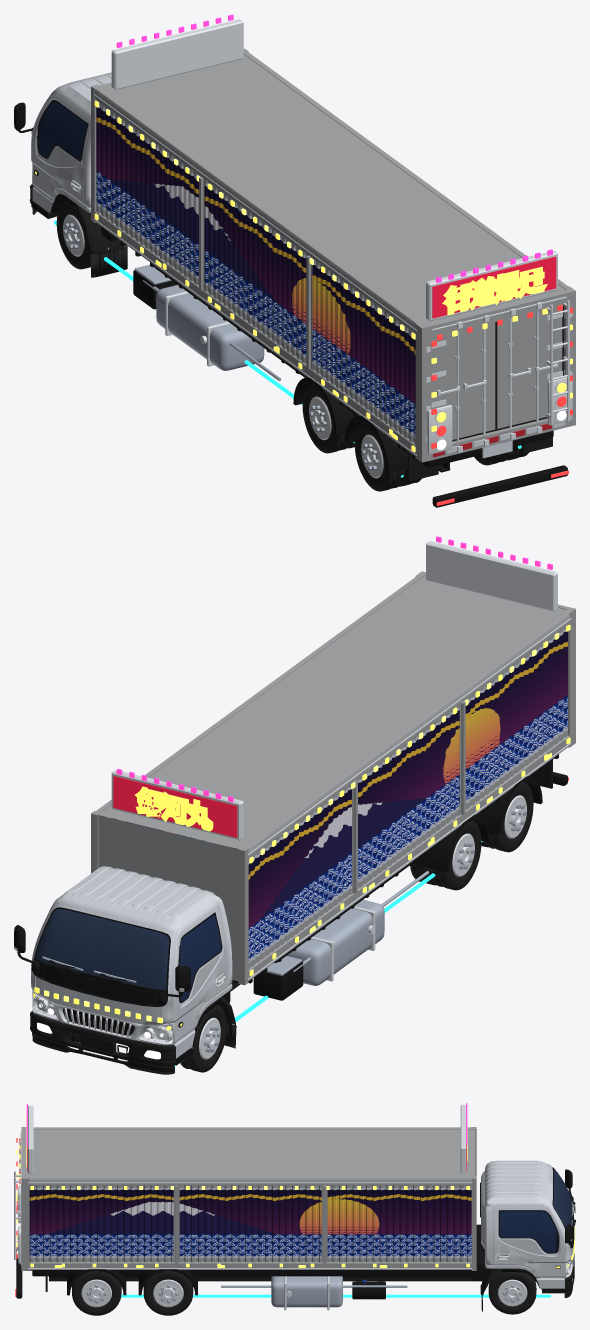
The model's file is dekotora_truck_base_curta.glb.
3 renders of one model, top to bottom at view 1: azimuth 30°, elevation 25°; view 2: azimuth 150°, elevation 25°; view 3: azimuth 270°, elevation 25°, orthographic. The views are drawn at different scales.
Visible parts, largest first — view 1: truck_paint_white_box, truck_mural, truck_box_metal, truck_chrome, truck_plastic_black, truck_steel, truck_paint_white_panel, truck_lamp_amber, truck_rubber, truck_glass, wheel_r_L_1.5_1.06, wheel_r_L_3.0_1.06 (+6 smaller); view 2: truck_paint_white_box, truck_mural, truck_box_metal, truck_paint_white_panel, truck_chrome, truck_plastic_black, truck_glass_wind, truck_steel, truck_plastic_trim, truck_lamp_amber, truck_andon_panel, wheel_r_L_3.0_1.06 (+4 smaller); view 3: truck_mural, truck_paint_white_box, truck_box_metal, truck_paint_white_panel, truck_plastic_black, truck_chrome, truck_steel, wheel_r_R_3.0_1.06, wheel_r_R_1.5_1.06, wheel_f_R, truck_glass, truck_lamp_cyan (+3 smaller).
Part boxes in pixels (left/top/right/bottom): truck_paint_white_box: left=96, top=54, right=566, bottom=444; truck_mural: left=96, top=105, right=415, bottom=438; truck_box_metal: left=91, top=48, right=575, bottom=462; truck_chrome: left=32, top=19, right=572, bottom=455; truck_plastic_black: left=14, top=90, right=567, bottom=507; truck_steel: left=134, top=264, right=281, bottom=381; truck_paint_white_panel: left=31, top=72, right=111, bottom=212; truck_lamp_amber: left=35, top=100, right=572, bottom=452; truck_rubber: left=90, top=246, right=563, bottom=481; truck_glass: left=39, top=101, right=87, bottom=159; wheel_r_L_1.5_1.06: left=354, top=421, right=405, bottom=491; wheel_r_L_3.0_1.06: left=302, top=383, right=350, bottom=453; truck_paint_white_box: left=98, top=575, right=567, bottom=981; truck_mural: left=107, top=629, right=567, bottom=963; truck_box_metal: left=91, top=571, right=575, bottom=985; truck_paint_white_panel: left=31, top=866, right=232, bottom=1058; truck_chrome: left=15, top=541, right=571, bottom=1045; truck_plastic_black: left=14, top=754, right=567, bottom=1065; truck_glass_wind: left=36, top=909, right=169, bottom=989; truck_steel: left=42, top=871, right=428, bottom=985; truck_plastic_trim: left=30, top=996, right=235, bottom=1074; truck_lamp_amber: left=33, top=624, right=570, bottom=1030; truck_andon_panel: left=113, top=776, right=237, bottom=837; wheel_r_L_3.0_1.06: left=430, top=820, right=481, bottom=890; truck_mural: left=29, top=1187, right=471, bottom=1258; truck_paint_white_box: left=25, top=1129, right=475, bottom=1262; truck_box_metal: left=21, top=1127, right=476, bottom=1270; truck_paint_white_panel: left=481, top=1160, right=573, bottom=1288; truck_plastic_black: left=16, top=1167, right=575, bottom=1299; truck_chrome: left=14, top=1104, right=574, bottom=1310; truck_steel: left=221, top=1202, right=573, bottom=1307; wheel_r_R_3.0_1.06: left=143, top=1271, right=193, bottom=1315; wheel_r_R_1.5_1.06: left=72, top=1271, right=121, bottom=1315; wheel_f_R: left=488, top=1268, right=536, bottom=1314; truck_glass: left=500, top=1211, right=558, bottom=1252; truck_lamp_cyan: left=121, top=1294, right=550, bottom=1297.
Size of the model in its own units: 2.91 by 3.91 by 11.76.
24 materials, 8 textured.
